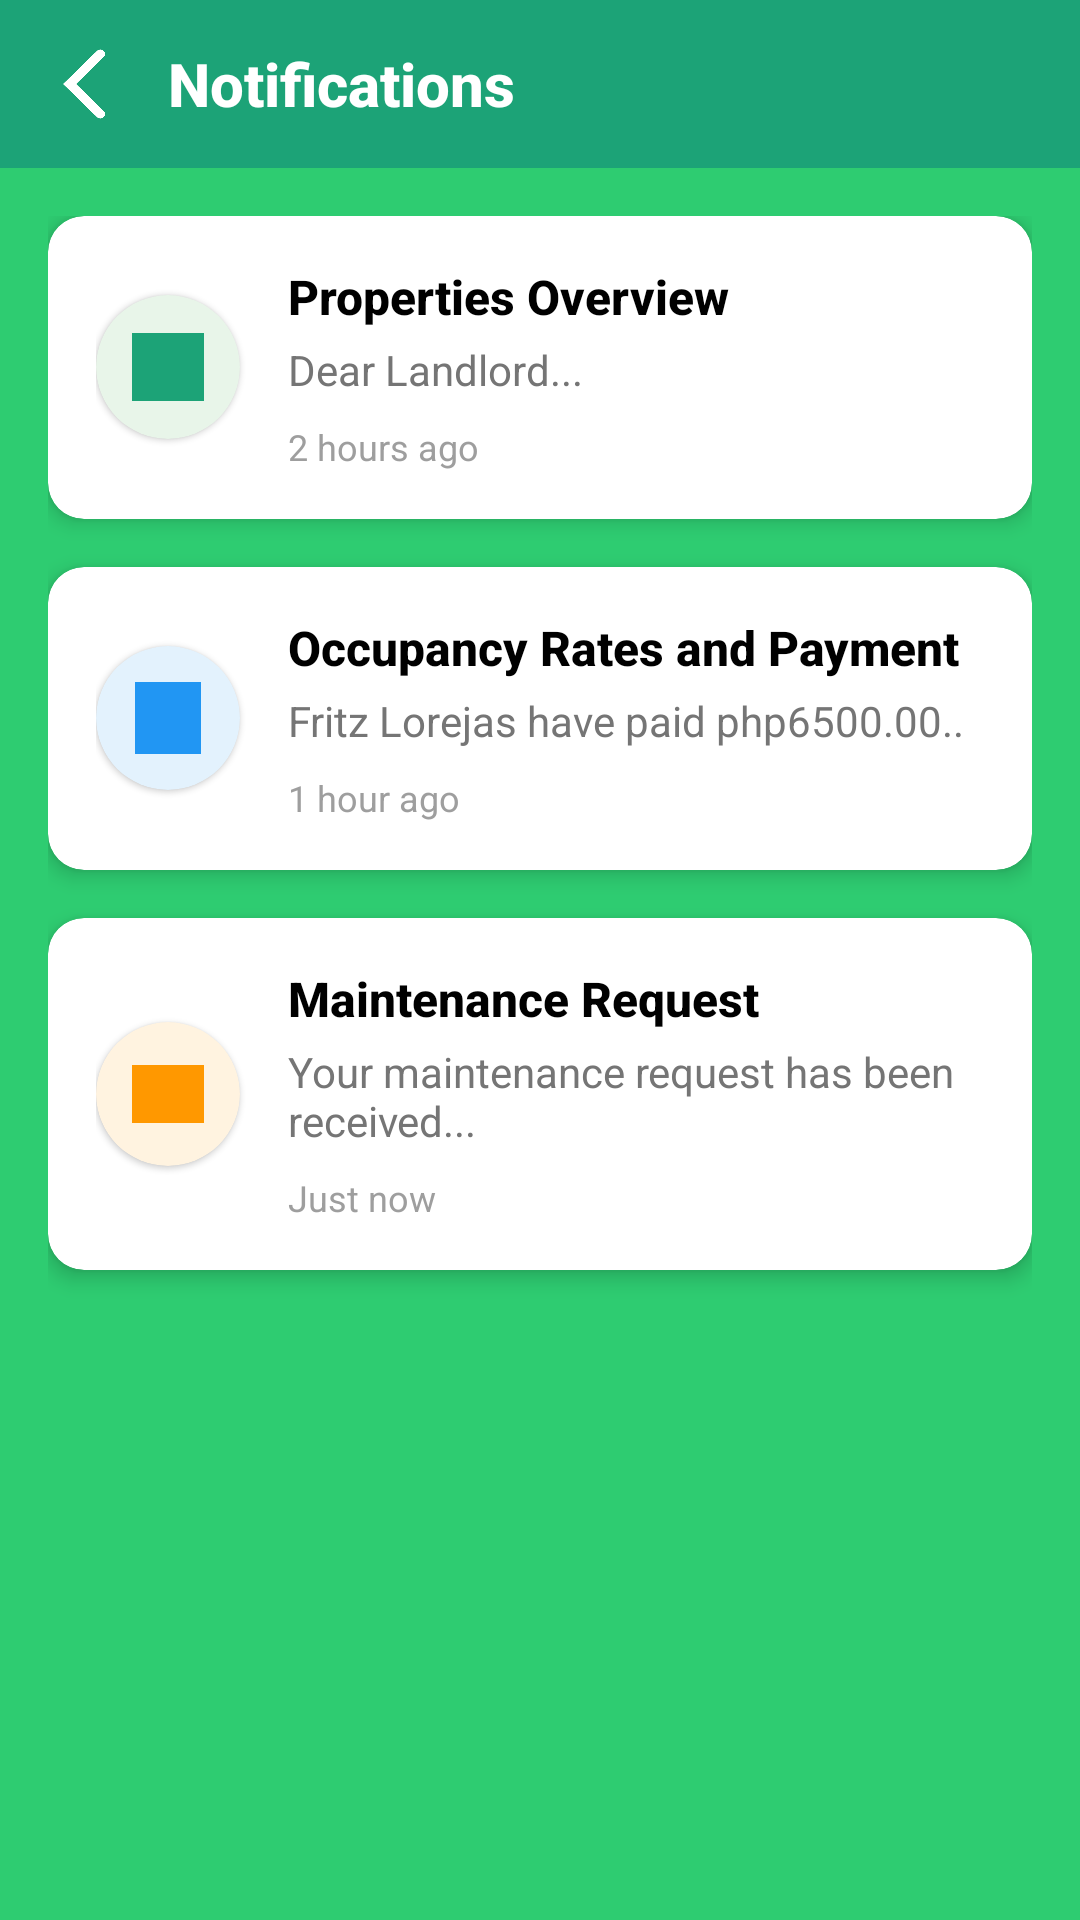

Where to tap for icons on this 1080x1920 app screen, as (x=x, y=y):
Back: (x=84, y=84)
